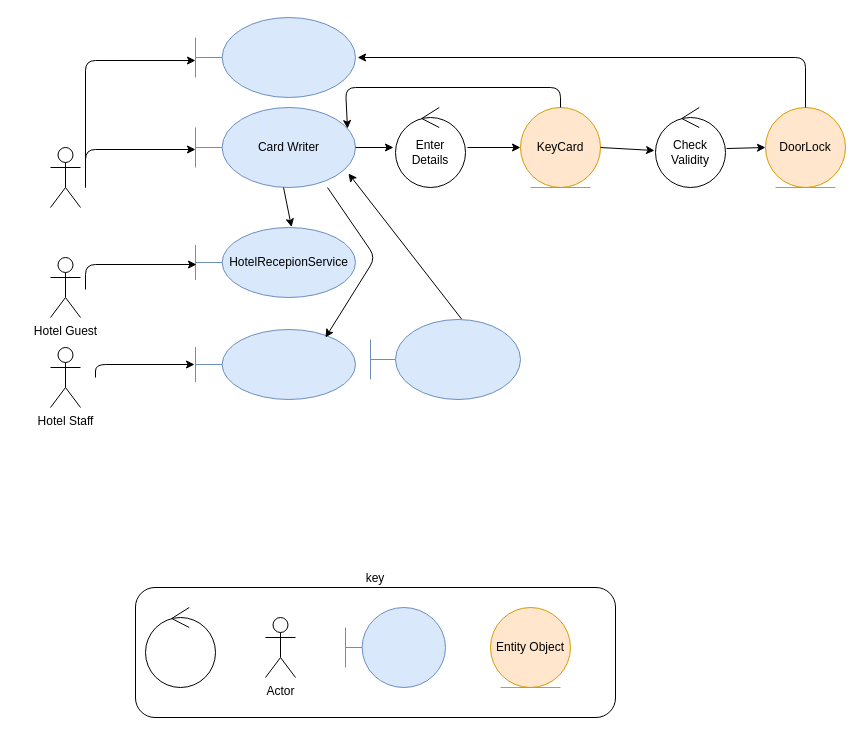
Image size: 863x735. Some labels were removed from this diagram. The shapes that lost their labels are listed below. From the top down, each one's centre as x and y in pixels, then its label:
At point (275, 57): "Log".
At point (65, 177): "Hotel Receptionist".
At point (275, 364): "HotelRoomLockService".
At point (445, 359): "SecretkeyProvider".
At point (180, 647): "Control Object".
At point (395, 647): "Boundary Object".
